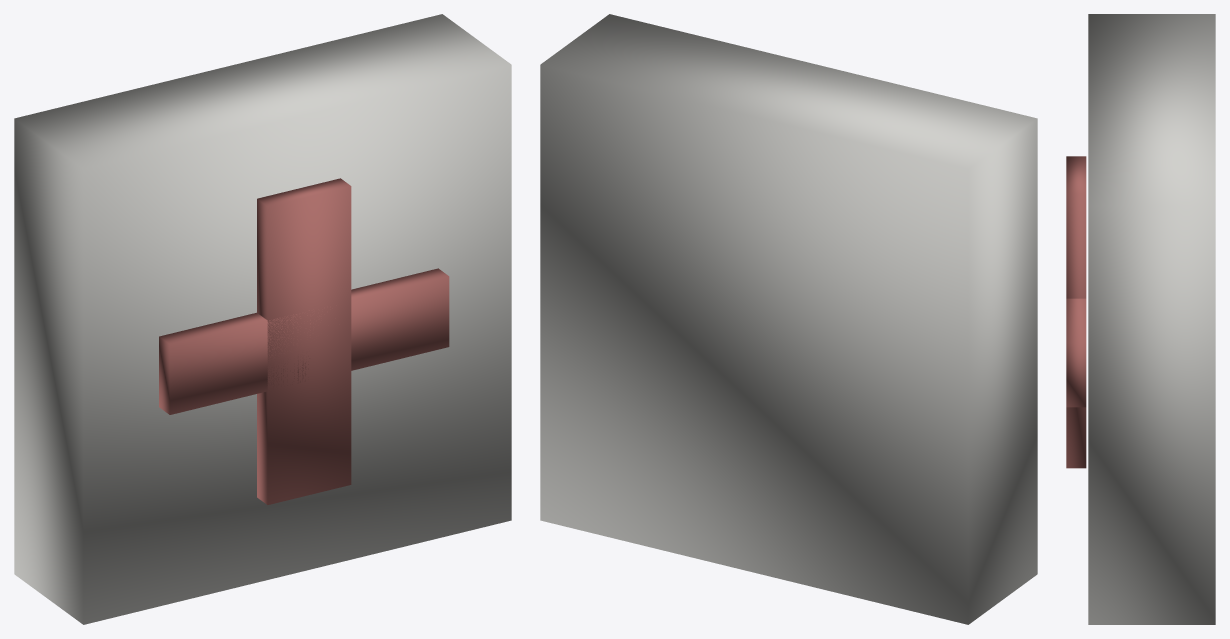
File: first_aid_wall_cabinet__wide.glb
3 renders of one model, left to right at view 1: azimuth 30°, elevation 25°; view 2: azimuth 150°, elevation 25°; view 3: azimuth 270°, elevation 25°, orthographic. The views are drawn at different scales.
Visible parts, largest first — view 1: world; view 2: world; view 3: world.
Part boxes in pixels (x1,y1,x2,y2): world: [14, 14, 511, 624]; world: [540, 14, 1037, 624]; world: [1066, 14, 1215, 624].
Bounding box in the file's own units: 0.5704 × 0.58 × 0.1875.
